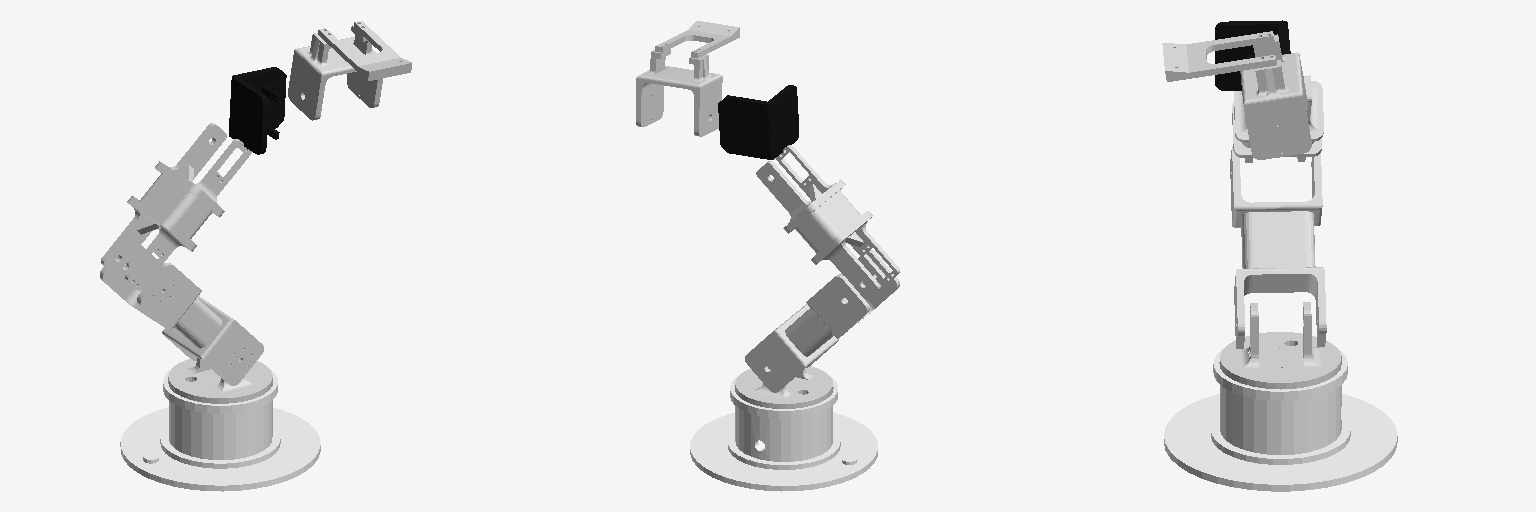
URDF robot description (Reference_Assembly_Home1):
<?xml version="1.0" encoding="utf-8"?>
<!-- This URDF was automatically created by SolidWorks to URDF Exporter! Originally created by Stephen Brawner (brawner@gmail.com) 
     Commit Version: 1.6.0-4-g7f85cfe  Build Version: 1.6.7995.38578
     For more information, please see http://wiki.ros.org/sw_urdf_exporter -->
<robot
  name="Reference_Assembly_Home1">
  <link
    name="base_link">
    <inertial>
      <origin
        xyz="-0.00054420381837245 0.0289764153009481 0.00017209218011969"
        rpy="0 0 0" />
      <mass
        value="0.74995511898166" />
      <inertia
        ixx="0.00300881122224017"
        ixy="3.98409686242449E-06"
        ixz="-7.04505730019344E-08"
        iyy="0.00471570695756845"
        iyz="-7.77591095594387E-07"
        izz="0.00305676569031836" />
    </inertial>
    <visual>
      <origin
        xyz="0 0 0"
        rpy="0 0 0" />
      <geometry>
        <mesh
          filename="package://Reference_Assembly_Home1/meshes/base_link.STL" />
      </geometry>
      <material
        name="">
        <color
          rgba="1 1 1 0.35" />
      </material>
    </visual>
    <collision>
      <origin
        xyz="0 0 0"
        rpy="0 0 0" />
      <geometry>
        <mesh
          filename="package://Reference_Assembly_Home1/meshes/base_link.STL" />
      </geometry>
    </collision>
  </link>
  <link
    name="Shoulder_R">
    <inertial>
      <origin
        xyz="0.000403078883638784 0.00970799426762278 -0.00104712514433428"
        rpy="0 0 0" />
      <mass
        value="0.154107089212603" />
      <inertia
        ixx="0.000188059857849138"
        ixy="2.92431537638015E-07"
        ixz="7.40368791297862E-07"
        iyy="0.000299228678844809"
        iyz="5.72855168293748E-06"
        izz="0.000169291903518765" />
    </inertial>
    <visual>
      <origin
        xyz="0 0 0"
        rpy="0 0 0" />
      <geometry>
        <mesh
          filename="package://Reference_Assembly_Home1/meshes/Shoulder_R.STL" />
      </geometry>
      <material
        name="">
        <color
          rgba="0.894117647058823 0.894117647058823 0.894117647058823 1" />
      </material>
    </visual>
    <collision>
      <origin
        xyz="0 0 0"
        rpy="0 0 0" />
      <geometry>
        <mesh
          filename="package://Reference_Assembly_Home1/meshes/Shoulder_R.STL" />
      </geometry>
    </collision>
  </link>
  <joint
    name="J1"
    type="revolute">
    <origin
      xyz="0 0 0.09"
      rpy="1.5708 0 0.04451" />
    <parent
      link="base_link" />
    <child
      link="Shoulder_R" />
    <axis
      xyz="0 1 0" />
    <limit
      lower="-2.0944"
      upper="2.0944"
      effort="0"
      velocity="0" />
  </joint>
  <link
    name="Shoulder">
    <inertial>
      <origin
        xyz="-1.50315385138988E-10 0.099425017814332 6.34043390098688E-05"
        rpy="0 0 0" />
      <mass
        value="0.39012103355625" />
      <inertia
        ixx="0.000670012389630492"
        ixy="-1.22065933905391E-12"
        ixz="-1.8740720330164E-11"
        iyy="0.000559622743279562"
        iyz="-2.23498950331072E-13"
        izz="0.000363783180882448" />
    </inertial>
    <visual>
      <origin
        xyz="0 0 0"
        rpy="0 0 0" />
      <geometry>
        <mesh
          filename="package://Reference_Assembly_Home1/meshes/Shoulder.STL" />
      </geometry>
      <material
        name="">
        <color
          rgba="0.894117647058823 0.894117647058823 0.894117647058823 1" />
      </material>
    </visual>
    <collision>
      <origin
        xyz="0 0 0"
        rpy="0 0 0" />
      <geometry>
        <mesh
          filename="package://Reference_Assembly_Home1/meshes/Shoulder.STL" />
      </geometry>
    </collision>
  </link>
  <joint
    name="J2"
    type="continuous">
    <origin
      xyz="0 0.0512 0"
      rpy="0 0 0.74764" />
    <parent
      link="Shoulder_R" />
    <child
      link="Shoulder" />
    <axis
      xyz="0 0 1" />
  </joint>
  <link
    name="Elbow">
    <inertial>
      <origin
        xyz="8.9996654573099E-10 -0.145838707777668 -0.0010840468977736"
        rpy="0 0 0" />
      <mass
        value="0.504313501291092" />
      <inertia
        ixx="0.000788977892701809"
        ixy="-7.23431204927685E-12"
        ixz="-8.52875918590831E-12"
        iyy="0.0005097510290924"
        iyz="-7.60818811865854E-06"
        izz="0.000557806758049926" />
    </inertial>
    <visual>
      <origin
        xyz="0 0 0"
        rpy="0 0 0" />
      <geometry>
        <mesh
          filename="package://Reference_Assembly_Home1/meshes/Elbow.STL" />
      </geometry>
      <material
        name="">
        <color
          rgba="0.894117647058823 0.894117647058823 0.894117647058823 1" />
      </material>
    </visual>
    <collision>
      <origin
        xyz="0 0 0"
        rpy="0 0 0" />
      <geometry>
        <mesh
          filename="package://Reference_Assembly_Home1/meshes/Elbow.STL" />
      </geometry>
    </collision>
  </link>
  <joint
    name="J3"
    type="continuous">
    <origin
      xyz="0 0.19885 0"
      rpy="0 0 1.5614" />
    <parent
      link="Shoulder" />
    <child
      link="Elbow" />
    <axis
      xyz="0 0 -1" />
  </joint>
  <link
    name="Wrist_P">
    <inertial>
      <origin
        xyz="-8.7567297857305E-10 0.0326437870615106 0.000177447738935823"
        rpy="0 0 0" />
      <mass
        value="0.134810623383458" />
      <inertia
        ixx="0.000269760071149334"
        ixy="7.68828751572437E-13"
        ixz="1.08344347827906E-10"
        iyy="0.000225232191153324"
        iyz="7.80565817654164E-07"
        izz="0.00012827786126679" />
    </inertial>
    <visual>
      <origin
        xyz="0 0 0"
        rpy="0 0 0" />
      <geometry>
        <mesh
          filename="package://Reference_Assembly_Home1/meshes/Wrist_P.STL" />
      </geometry>
      <material
        name="">
        <color
          rgba="0.101960784313725 0.101960784313725 0.101960784313725 1" />
      </material>
    </visual>
    <collision>
      <origin
        xyz="0 0 0"
        rpy="0 0 0" />
      <geometry>
        <mesh
          filename="package://Reference_Assembly_Home1/meshes/Wrist_P.STL" />
      </geometry>
    </collision>
  </link>
  <joint
    name="J4"
    type="continuous">
    <origin
      xyz="0 -0.2624 0"
      rpy="0 0 2.3464" />
    <parent
      link="Elbow" />
    <child
      link="Wrist_P" />
    <axis
      xyz="0 0 1" />
  </joint>
  <link
    name="Wrist_R">
    <inertial>
      <origin
        xyz="0.000217019929672241 -0.0212833018466597 0.0336590129687498"
        rpy="0 0 0" />
      <mass
        value="0.157395440537729" />
      <inertia
        ixx="0.000185752802278826"
        ixy="-7.42899500224946E-07"
        ixz="-1.26125056106827E-07"
        iyy="0.000183370353940714"
        iyz="3.40221094527726E-05"
        izz="0.000124152379177769" />
    </inertial>
    <visual>
      <origin
        xyz="0 0 0"
        rpy="0 0 0" />
      <geometry>
        <mesh
          filename="package://Reference_Assembly_Home1/meshes/Wrist_R.STL" />
      </geometry>
      <material
        name="">
        <color
          rgba="0.894117647058823 0.894117647058823 0.894117647058823 1" />
      </material>
    </visual>
    <collision>
      <origin
        xyz="0 0 0"
        rpy="0 0 0" />
      <geometry>
        <mesh
          filename="package://Reference_Assembly_Home1/meshes/Wrist_R.STL" />
      </geometry>
    </collision>
  </link>
  <joint
    name="J5"
    type="continuous">
    <origin
      xyz="0 0.10399 0.01"
      rpy="1.5708 1.418 3.1416" />
    <parent
      link="Wrist_P" />
    <child
      link="Wrist_R" />
    <axis
      xyz="0 0 1" />
  </joint>
</robot>

--- Render facts (derived) ---
Views: 3 orthographic renders of the robot side by side, from view 1: azimuth 30°, elevation 25°; view 2: azimuth 150°, elevation 25°; view 3: azimuth 270°, elevation 25°.
Model Reference_Assembly_Home1 with 6 links and 5 joints (1 revolute, 4 continuous), rooted at base_link, posed all joints at 0.
Visible links, largest first — view 1: base_link, Elbow, Shoulder, Wrist_R, Wrist_P, Shoulder_R; view 2: base_link, Elbow, Shoulder, Wrist_R, Wrist_P, Shoulder_R; view 3: base_link, Shoulder, Wrist_R, Shoulder_R, Elbow, Wrist_P.
Link boxes in pixels (x1=…): base_link: x1=120, y1=369, x2=320, y2=491; Elbow: x1=101, y1=123, x2=251, y2=290; Shoulder: x1=100, y1=245, x2=263, y2=385; Wrist_R: x1=288, y1=21, x2=411, y2=120; Wrist_P: x1=229, y1=67, x2=286, y2=154; Shoulder_R: x1=168, y1=358, x2=272, y2=403; base_link: x1=690, y1=376, x2=877, y2=491; Elbow: x1=756, y1=145, x2=899, y2=299; Shoulder: x1=745, y1=250, x2=899, y2=392; Wrist_R: x1=636, y1=21, x2=739, y2=136; Wrist_P: x1=718, y1=85, x2=798, y2=159; Shoulder_R: x1=735, y1=365, x2=832, y2=408; base_link: x1=1164, y1=349, x2=1397, y2=491; Shoulder: x1=1230, y1=147, x2=1326, y2=348; Wrist_R: x1=1162, y1=31, x2=1311, y2=159; Shoulder_R: x1=1220, y1=302, x2=1341, y2=389; Elbow: x1=1232, y1=75, x2=1323, y2=162; Wrist_P: x1=1215, y1=20, x2=1290, y2=90.
Size in the robot's own frame: 0.3728 by 0.2516 by 0.5487 metres.
6 mesh visuals loaded from 6 distinct referenced files (6 binary STL).
